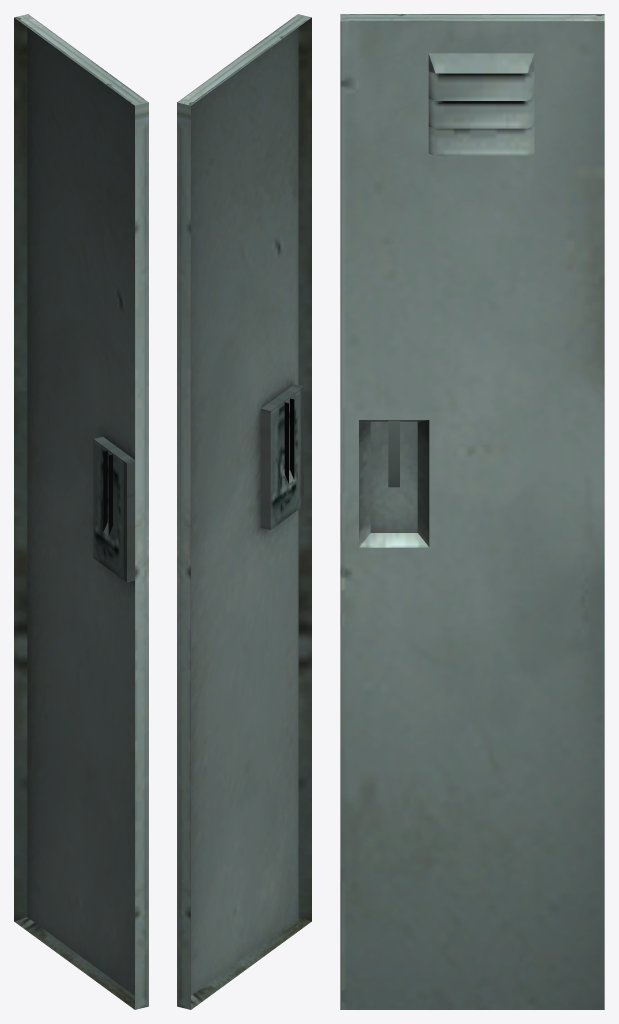
The model's file is lockerdoorright.glb.
3 views of the same model, side by side, from view 1: azimuth 30°, elevation 25°; view 2: azimuth 150°, elevation 25°; view 3: azimuth 270°, elevation 25° (orthographic). The views are drawn at different scales.
Parts seen in each view (by area): view 1: lockerdoorright; view 2: lockerdoorright; view 3: lockerdoorright.
Boxes of the visible parts, bbox=[...] form: lockerdoorright: bbox=[14, 14, 148, 1009]; lockerdoorright: bbox=[177, 14, 311, 1009]; lockerdoorright: bbox=[340, 14, 604, 1009].
Bounding box in the file's own units: 0.0355 × 1.18 × 0.286.
Materials: 1 (1 with a texture image).
